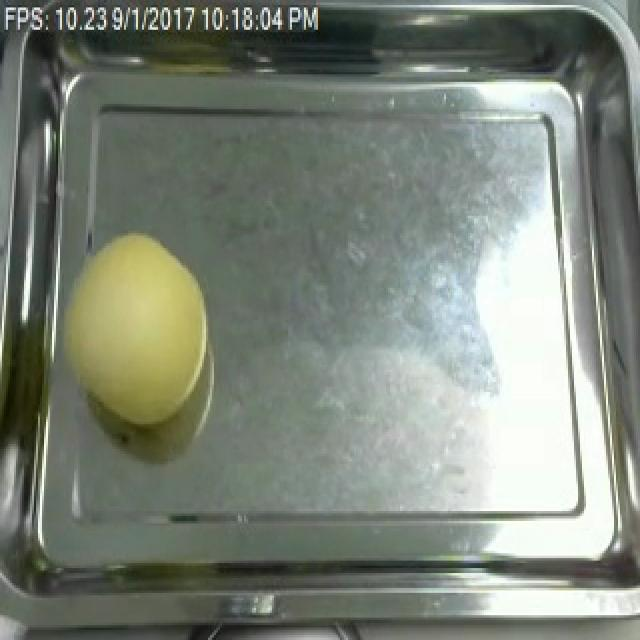Fruit: (36, 223, 222, 434)
